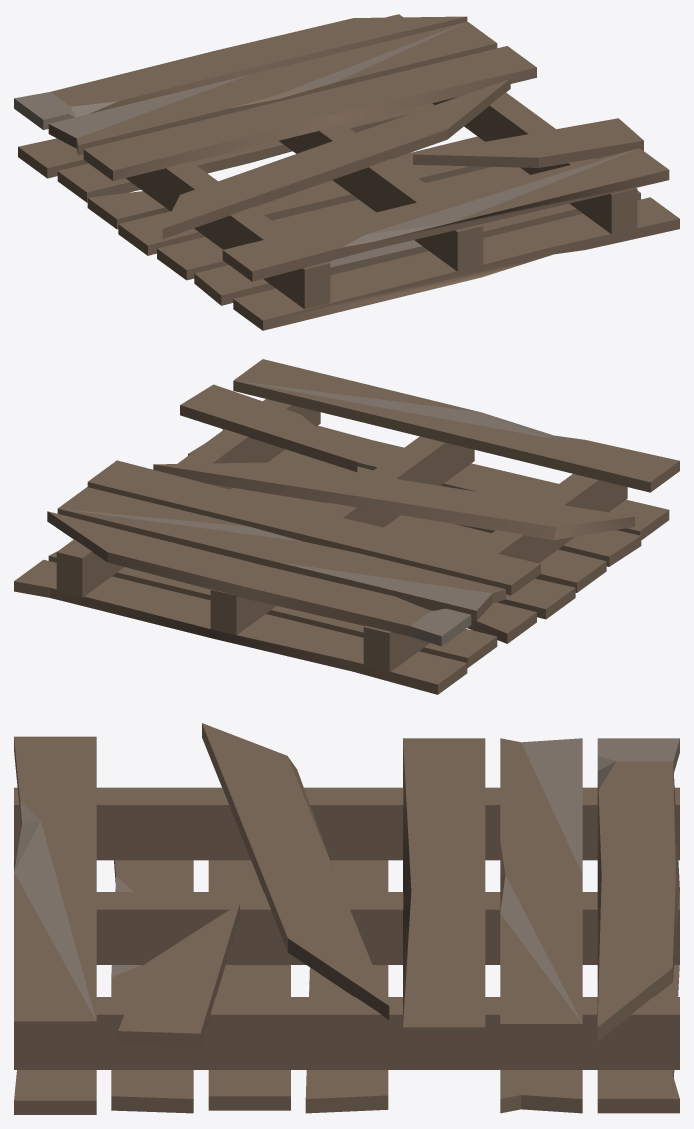
File: model_wood_pallet_damaged.fbx
The picture shows the model from 3 angles, top to bottom: view 1: azimuth 30°, elevation 25°; view 2: azimuth 150°, elevation 25°; view 3: azimuth 270°, elevation 25°; orthographic projection. The views are drawn at different scales.
Visible parts, largest first — view 1: model_wood_pallet_damaged; view 2: model_wood_pallet_damaged; view 3: model_wood_pallet_damaged.
Boxes of the visible parts, <box> form: model_wood_pallet_damaged: <box>14,14,679,330</box>; model_wood_pallet_damaged: <box>14,359,679,694</box>; model_wood_pallet_damaged: <box>14,723,679,1114</box>.
Size of the model in its own units: 200 by 25.96 by 181.
Materials: 1 (1 with a texture image).
